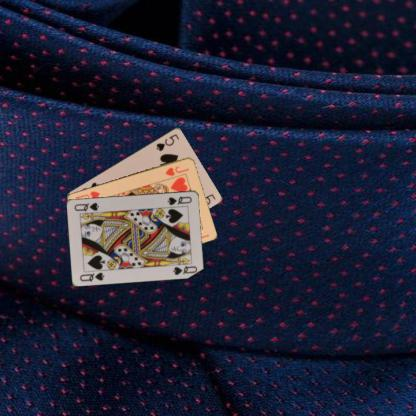5s: (154, 131, 180, 152)
Jh: (163, 163, 190, 177)
Qs: (165, 193, 193, 206), (77, 270, 106, 282)
